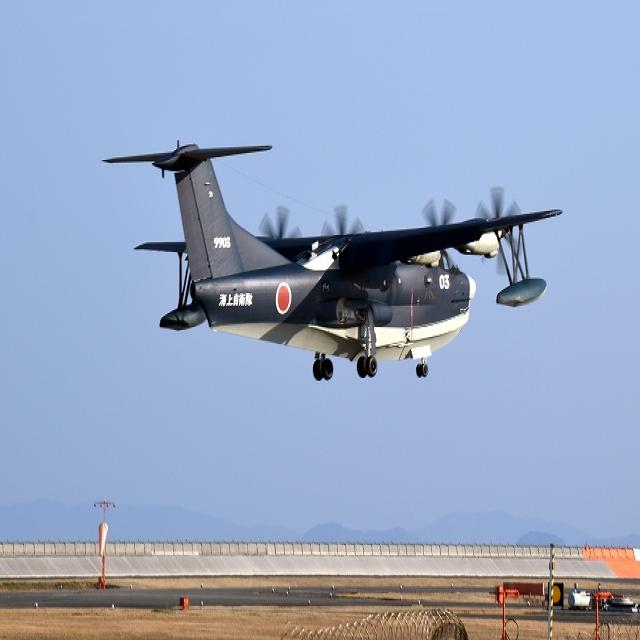MIL_Plane: (99, 138, 563, 382)
